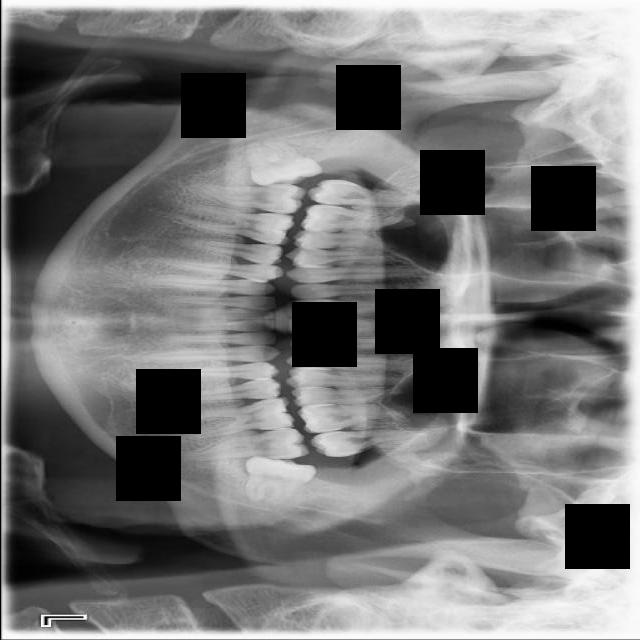73: (69, 567, 79, 571)
BioHorizons Implant: (308, 425, 429, 459)
Biomet 3i Implant: (242, 455, 317, 505)
Blue Sky Bio Implant: (172, 428, 308, 462)
Caries: (305, 176, 436, 215)
Implant: (186, 181, 306, 215)
Keystone Dental Implant: (243, 137, 323, 187)
